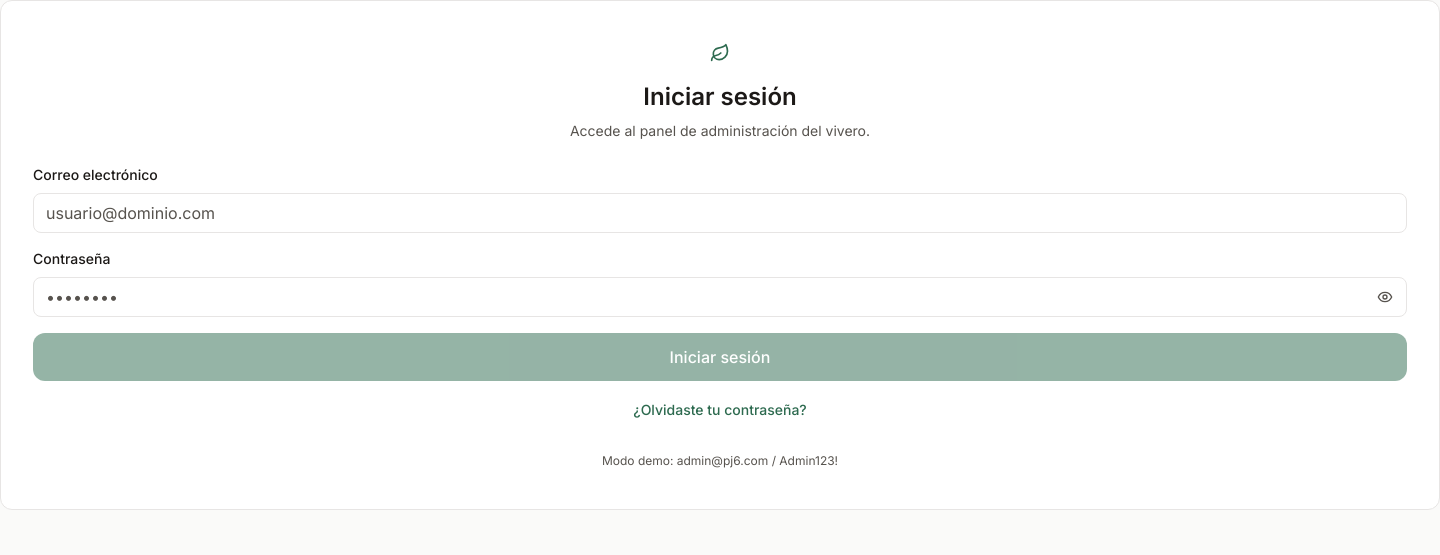
it: LoginForm › valida el formato del correo en tiempo real y habilita el botón solo con formulario válido
This screenshot has width=1440, height=555.
In the field labelled "Correo electrónico": (720, 213) [33,193,1407,233], type "no-valido"
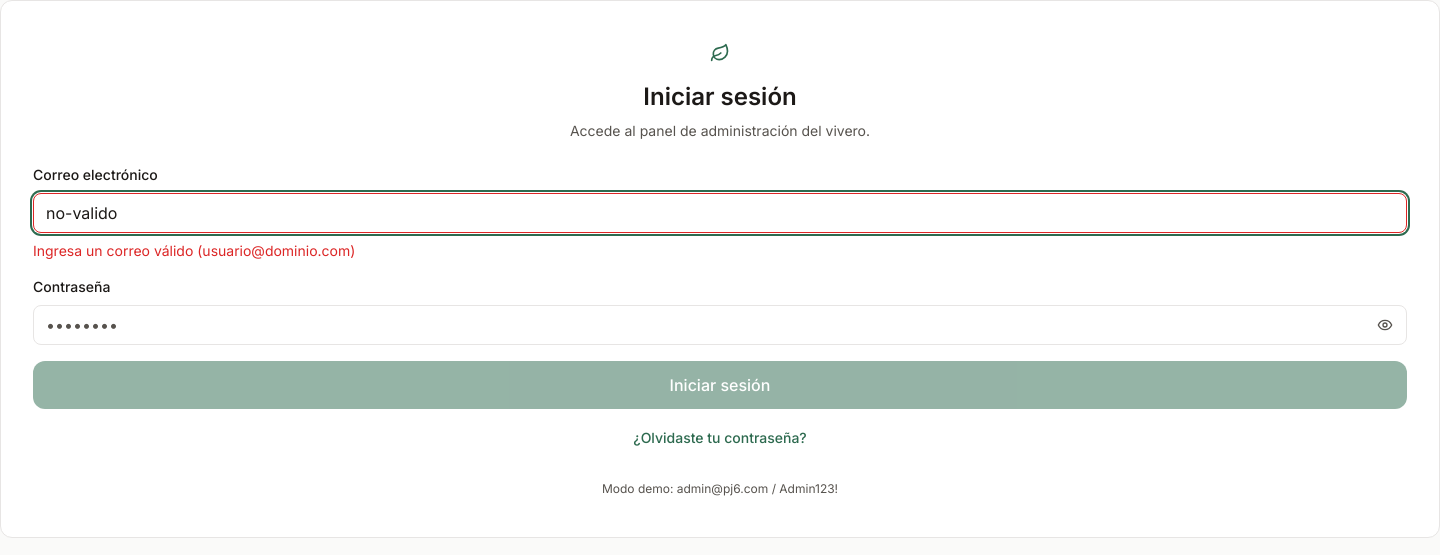
In the password field labelled "Contraseña": (720, 325) [33,305,1407,345], type "secreta1"
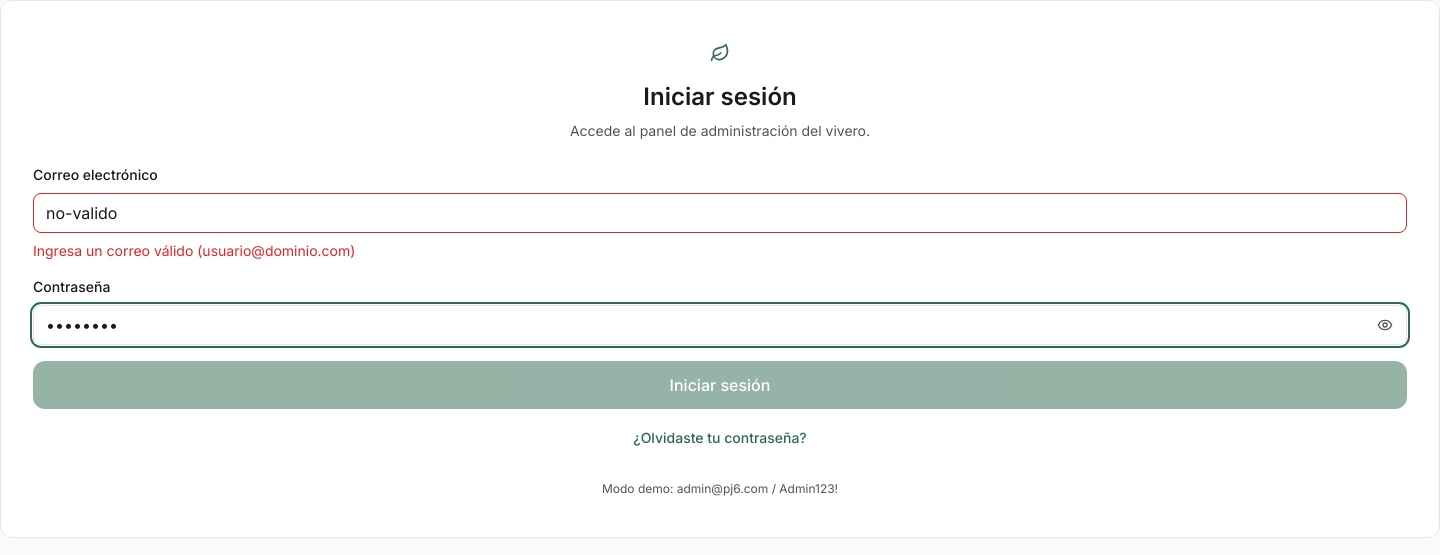
Expected: the button "Iniciar sesión" is disabled, [33,361,1407,409]
Now the text "Ingresa un correo válido (usuario@dominio.com)" is shown, box [33,242,355,259]
Replace the text in the field labelled "Correo electrónico" with "ana@vivero.com": (720, 213) [33,193,1407,233]
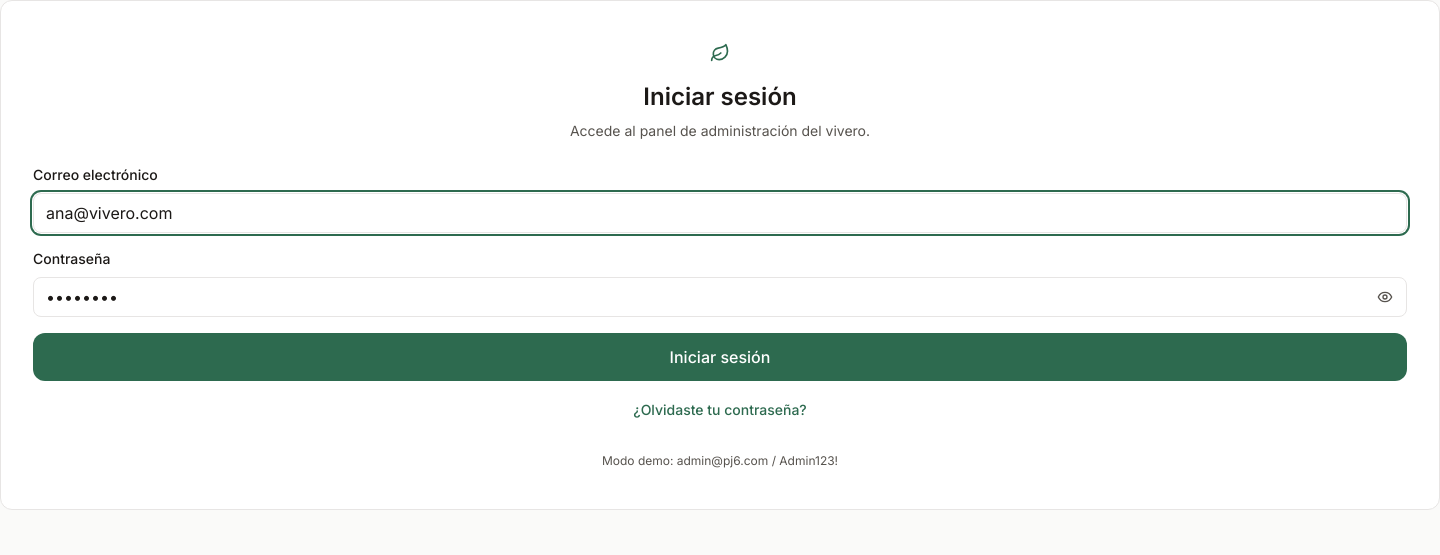
Now the button "Iniciar sesión" is enabled, box [33,333,1407,381]
